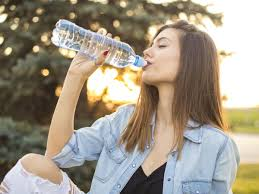Botella: (52, 19, 145, 67)
